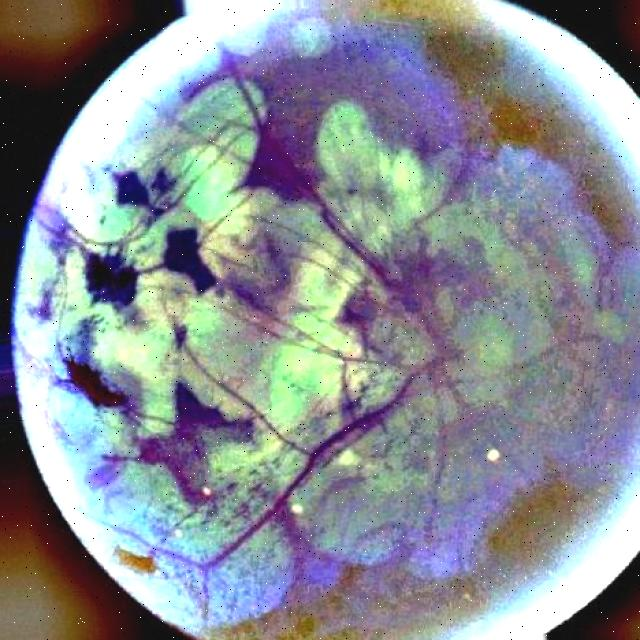Nerves: (208, 382, 404, 567), (272, 145, 407, 308)
Optic Disk: (342, 217, 511, 450)
